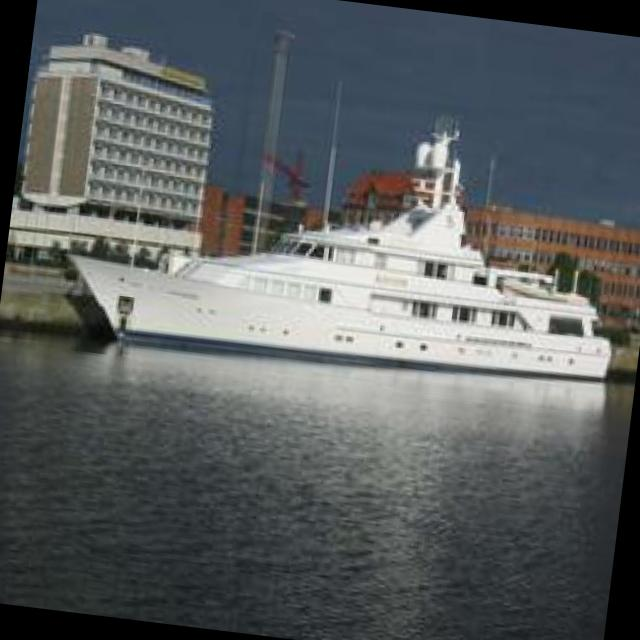boat: (70, 182, 634, 408)
